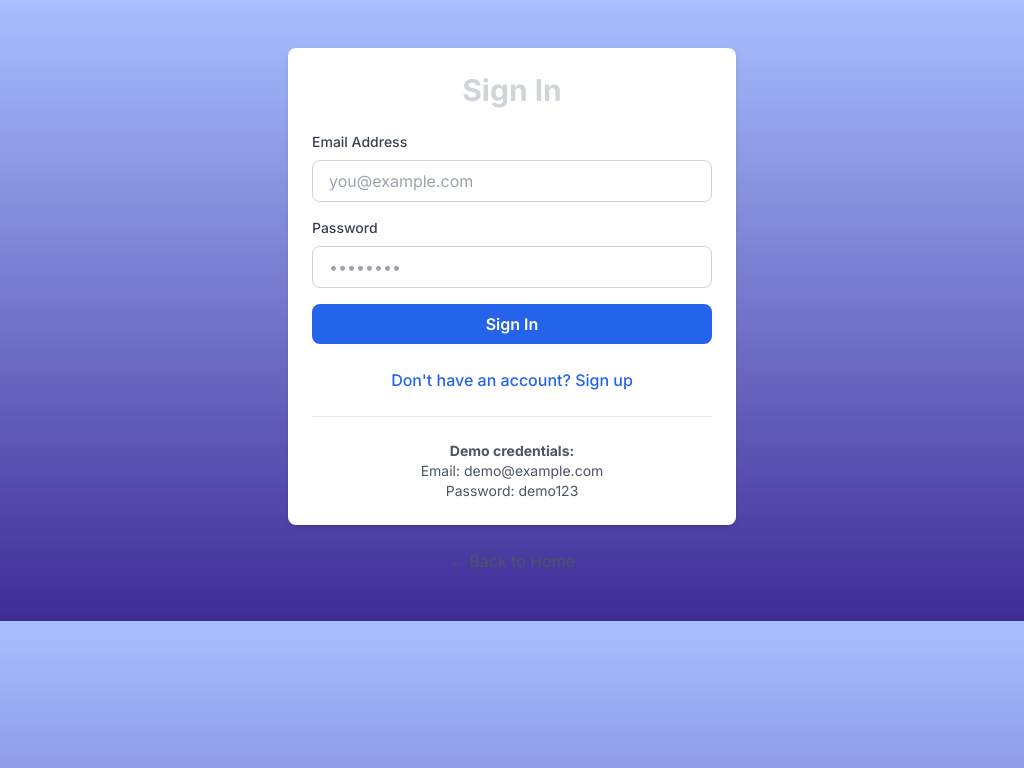
Test: LoginPage › Form Validation › shows email validation error for invalid email format
Type "invalid-email" into the field labelled "Email Address".
click(512, 181); type("invalid-email")  # box [312, 160, 712, 202]
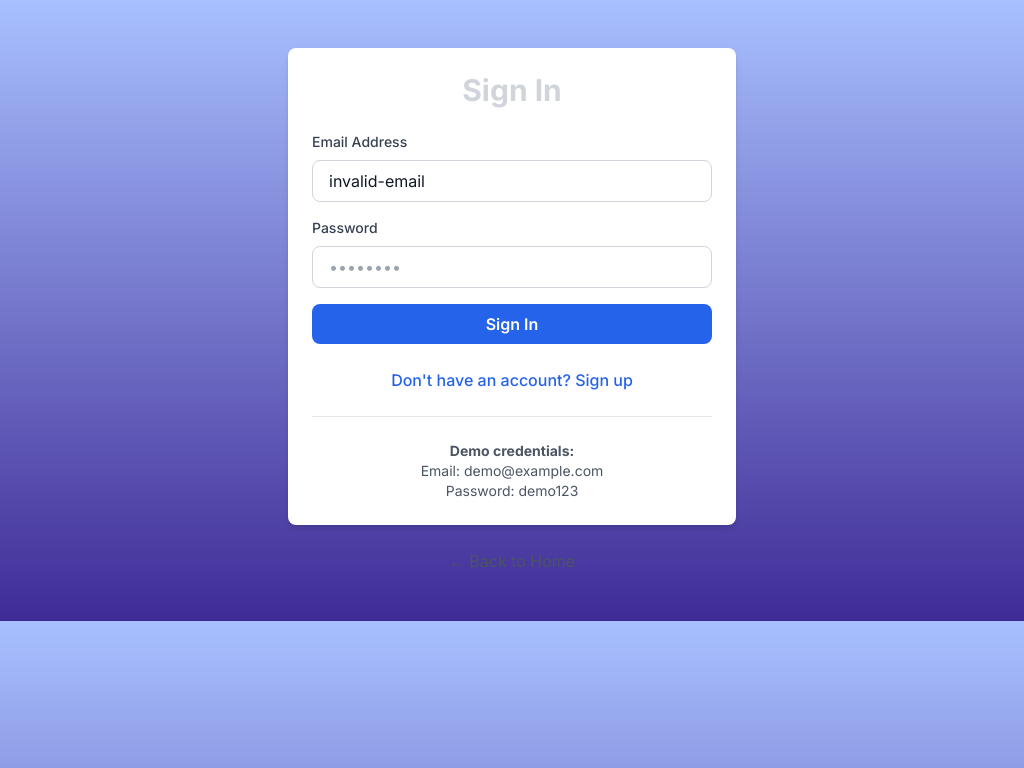
Click the button "Sign In".
click(512, 324)  # box [312, 304, 712, 344]
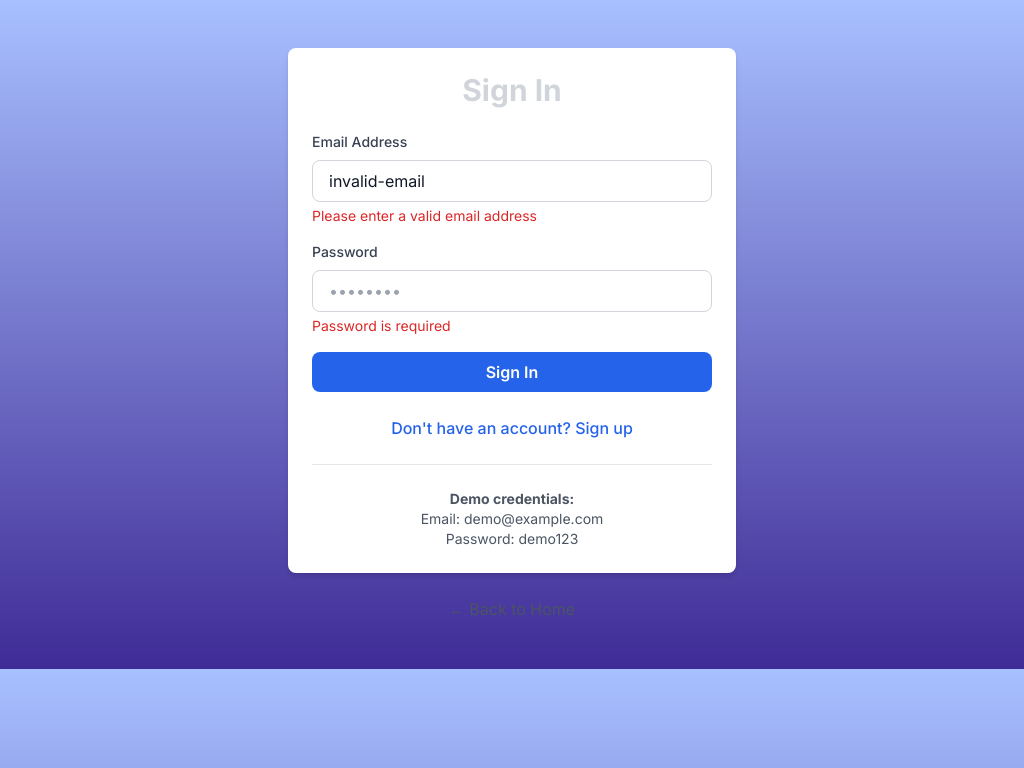
Expected: the text "Please enter a valid email address" is shown, [312, 207, 537, 224]
